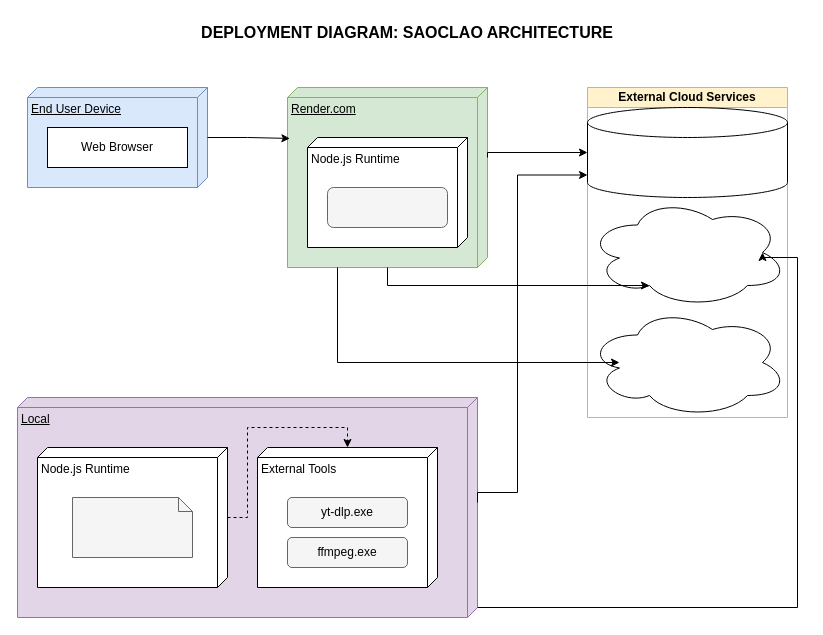
This 823x635 diagram has some shape labels left out. The centre of each missing label's shape, as x and y in pixels:
"Cloudinary" goes at point (687, 252).
"Google OAuth" goes at point (687, 362).
"MongoDB Atlas" goes at point (687, 152).
"SAOCLAO App (Express)" goes at point (387, 207).
"Scripts: import-one.js import-batch.js" goes at point (132, 527).
